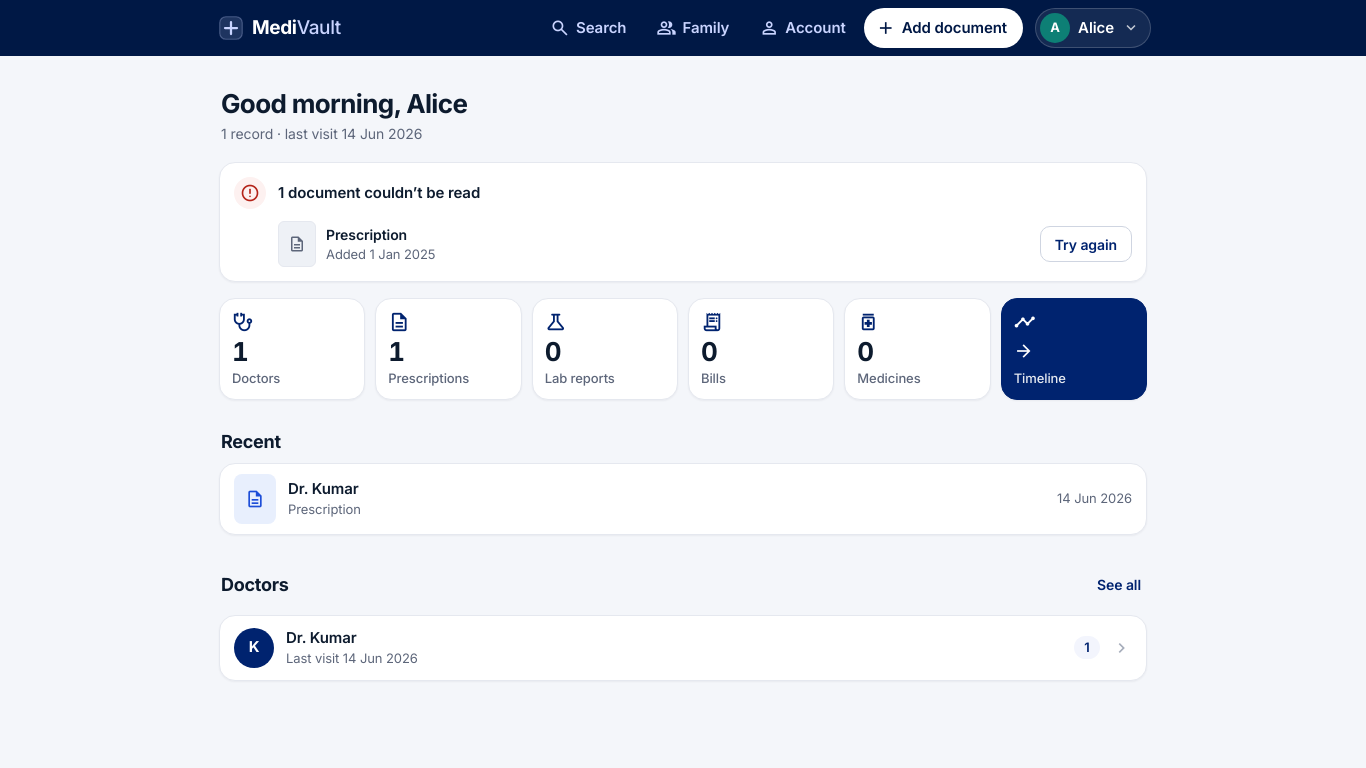
Test: retrying from the dashboard starts reading again and shows progress
The width and height of the screenshot is (1366, 768).
Click the button "Try again" at (1086, 244), box [1040,226,1132,262]
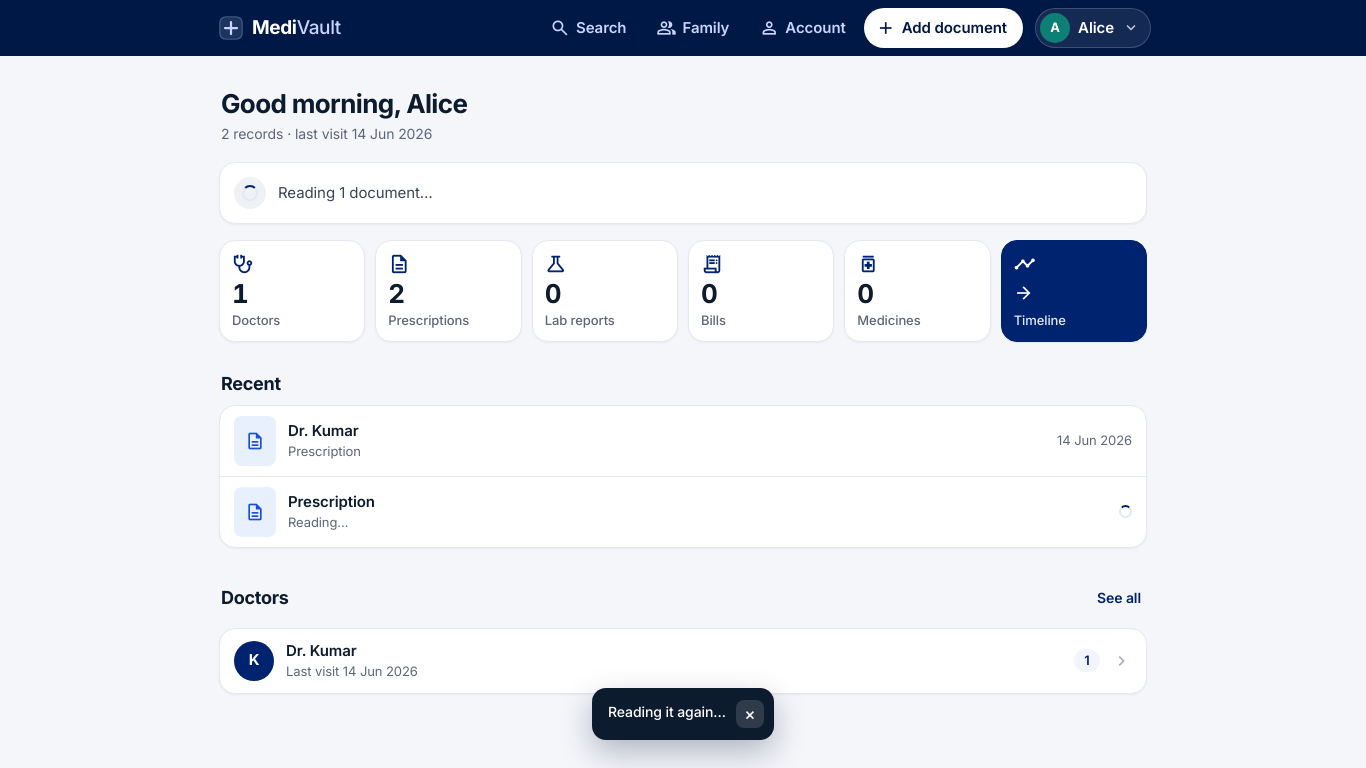
Expected: the text "Reading 1 document…" is shown, [278,183,433,202]
Expected: the text "couldn’t be read" is gone
